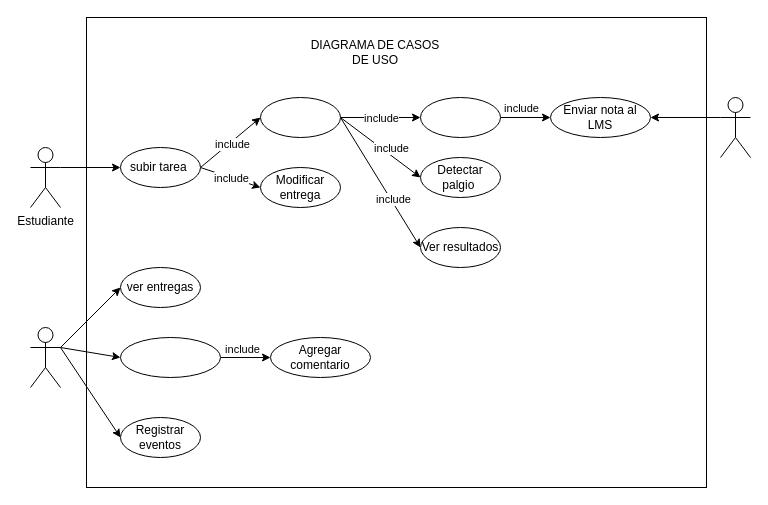
Some shapes in this 768 by 505 pixel diagram are drawn without their labels. Here are the shapes that lost their labels. From the top down, the centre of each, then its label:
the point at 300,117: Ejecutar codigo
the point at 460,117: Calcular nota
the point at 735,127: LMS
the point at 45,357: Profesor
the point at 170,357: Calificar Manualmente
